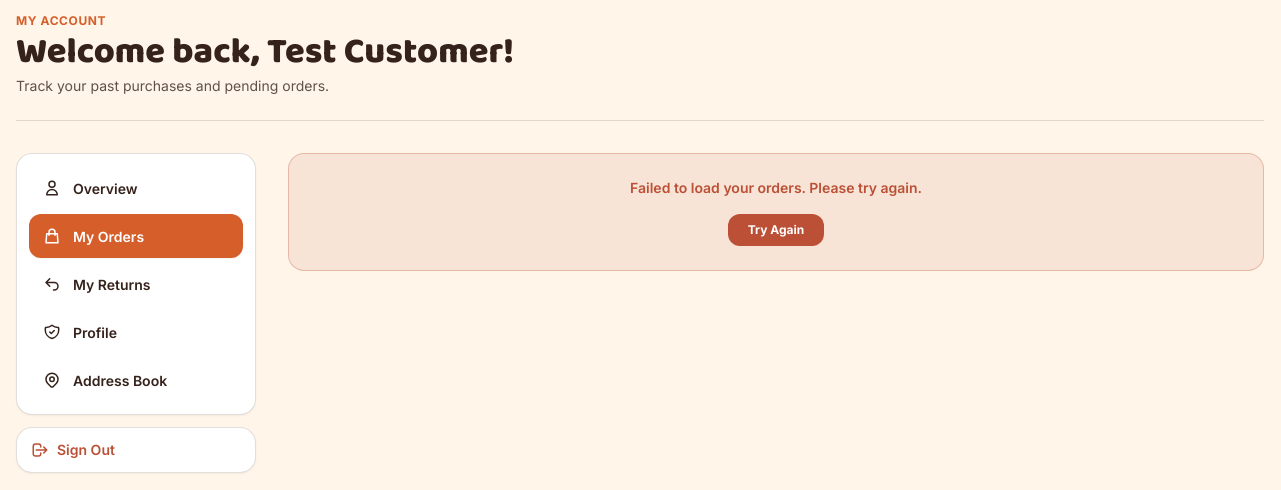
it: My Orders Page & Client Tests › 7. Shows API error message and supports retry action
Expected: the text "Failed to load your orders. Please try again." is shown, [630,179,922,196]
Click the button "Try Again" at (776, 230), box [728,214,824,246]
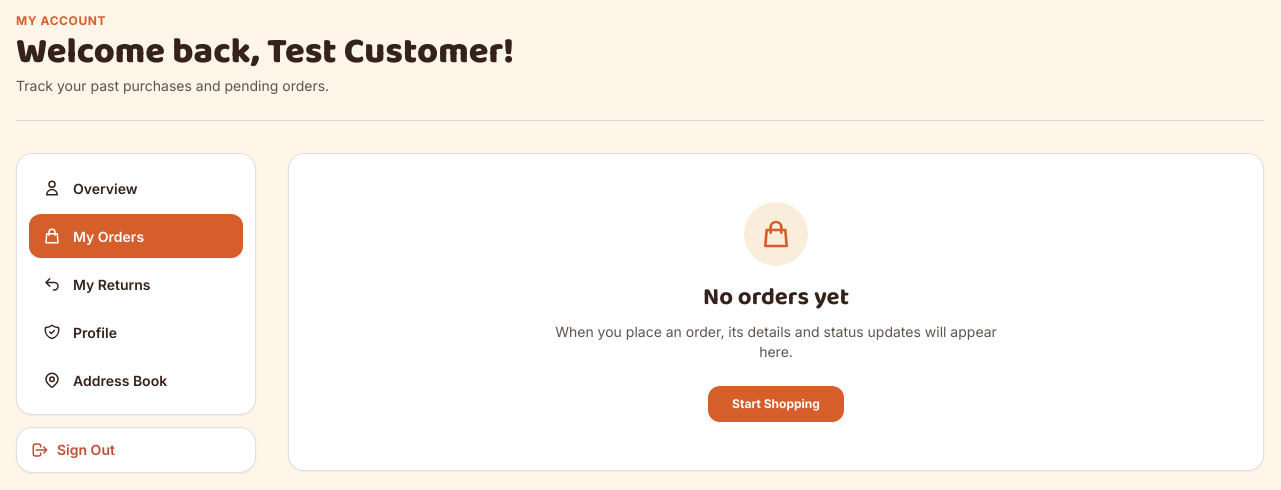
Expected: the heading "No orders yet" is shown, [703,278,849,317]
